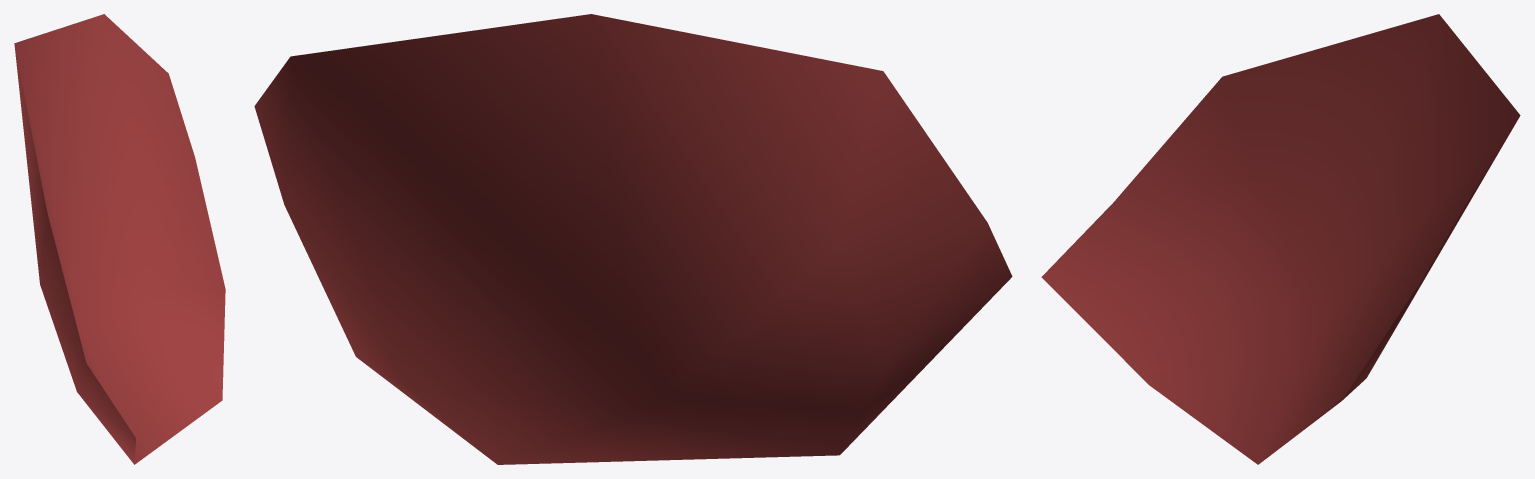
File: longissimus-thoracis-muscle-e11r.glb
3 renders of one model, left to right at view 1: azimuth 30°, elevation 25°; view 2: azimuth 150°, elevation 25°; view 3: azimuth 270°, elevation 25°, orthographic. The views are drawn at different scales.
Parts seen in each view (by area): view 1: Longissimus thoracis muscle.e11r; view 2: Longissimus thoracis muscle.e11r; view 3: Longissimus thoracis muscle.e11r.
Boxes of the visible parts, <box> form: Longissimus thoracis muscle.e11r: <box>14,14,225,464</box>; Longissimus thoracis muscle.e11r: <box>254,14,1012,464</box>; Longissimus thoracis muscle.e11r: <box>1041,14,1520,464</box>.
Size of the model in its own units: 0.00461 by 0.006 by 0.00688.
